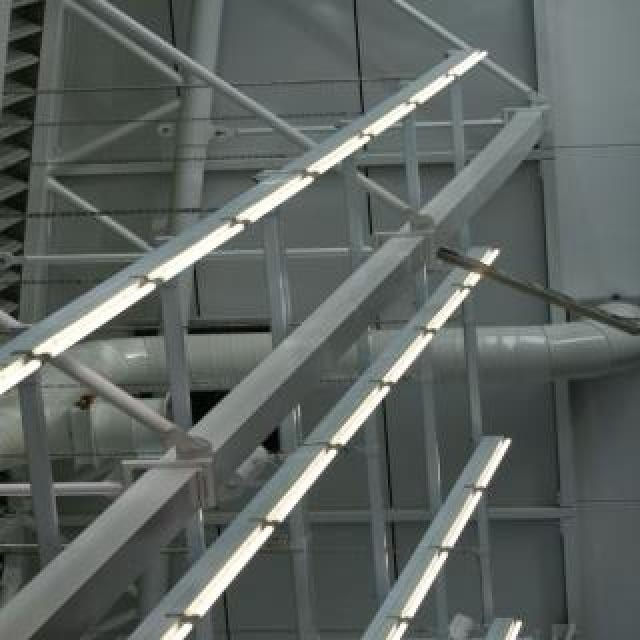fluorescent tube: (15, 271, 169, 382), (165, 516, 313, 631), (225, 429, 363, 546), (115, 207, 257, 311), (358, 540, 468, 640), (309, 365, 413, 451), (220, 167, 335, 244), (358, 317, 462, 395), (0, 342, 54, 478), (419, 471, 497, 565), (415, 282, 497, 347), (28, 612, 218, 640), (310, 602, 446, 640), (295, 127, 397, 173), (451, 236, 522, 296), (465, 434, 527, 502), (355, 89, 425, 149), (449, 27, 509, 82), (385, 73, 467, 109), (474, 612, 540, 640)
